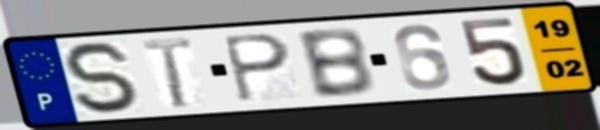5: (455, 15, 531, 88)
6: (390, 22, 454, 93)
B: (292, 25, 379, 101)
P: (218, 32, 295, 106)
S: (58, 39, 147, 116)
T: (137, 35, 197, 111)
